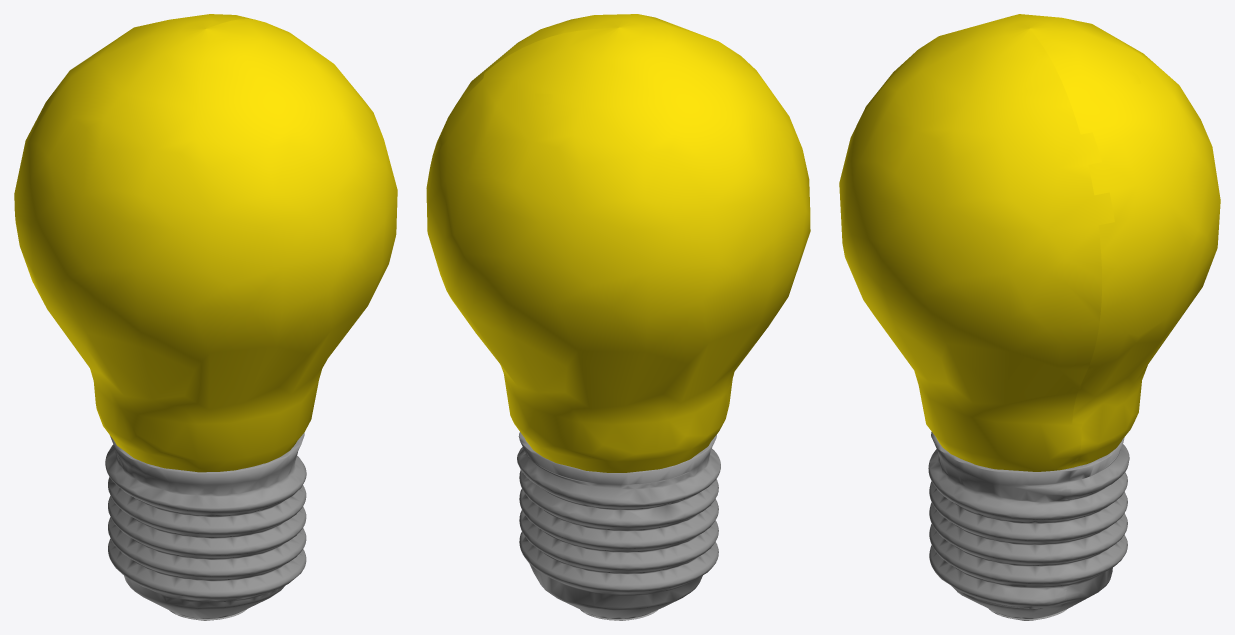
File: LAMPA_V2.FBX
The picture shows the model from 3 angles, left to right: view 1: azimuth 30°, elevation 25°; view 2: azimuth 150°, elevation 25°; view 3: azimuth 270°, elevation 25°; orthographic projection.
Visible parts, largest first — view 1: TooBig0; view 2: TooBig0; view 3: TooBig0.
Part boxes in pixels (x1=…): TooBig0: x1=14, y1=14, x2=397, y2=620; TooBig0: x1=426, y1=14, x2=810, y2=620; TooBig0: x1=839, y1=14, x2=1220, y2=620.
Bounding box in the file's own units: 0.0082 × 0.0138 × 0.0082.
